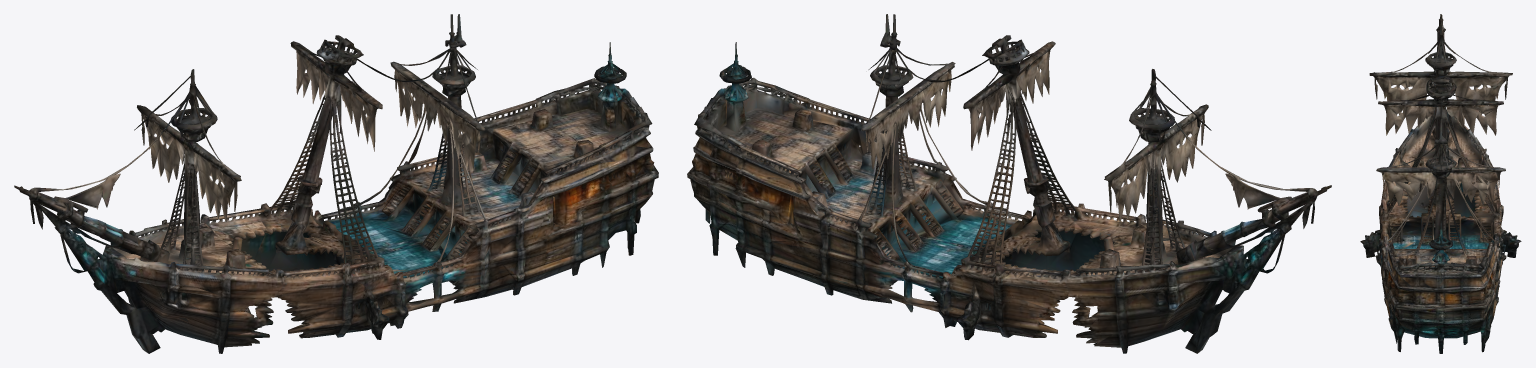
The model's file is ship.glb.
The picture shows the model from 3 angles, left to right: view 1: azimuth 30°, elevation 25°; view 2: azimuth 150°, elevation 25°; view 3: azimuth 270°, elevation 25°; orthographic projection. The views are drawn at different scales.
Visible parts, largest first — view 1: node_0; view 2: node_0; view 3: node_0.
Boxes of the visible parts, <box> form: node_0: <box>14,14,658,353</box>; node_0: <box>687,14,1331,353</box>; node_0: <box>1360,14,1521,353</box>.
Bounding box in the file's own units: 1.18 × 0.4905 × 0.3741.
1 material, 1 textured.
